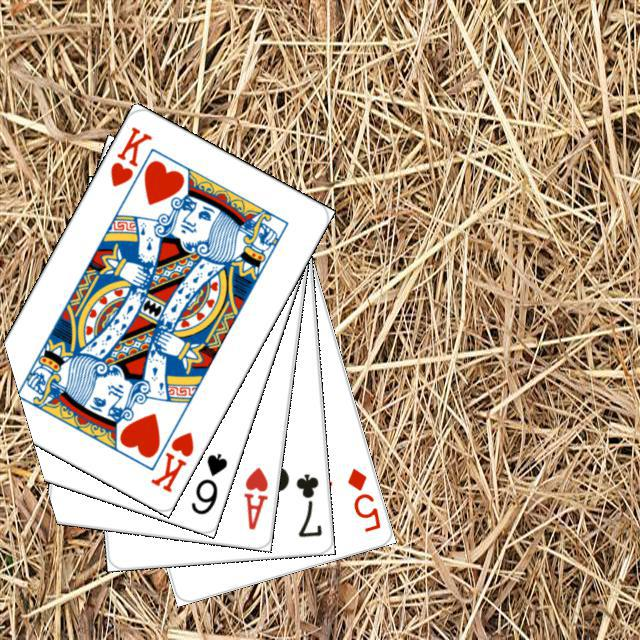5d: (342, 463, 383, 534)
6s: (186, 448, 229, 517)
7c: (291, 468, 324, 539)
Ah: (239, 462, 270, 532)
Kh: (142, 413, 196, 494), (105, 121, 154, 189)
